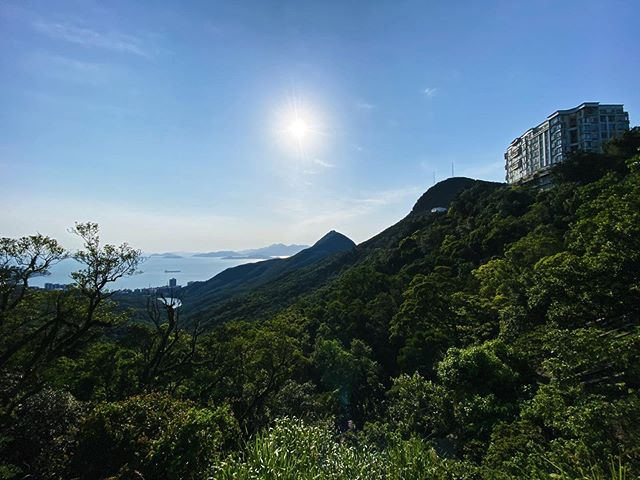building: (497, 98, 635, 178)
sea: (8, 255, 262, 290)
sky: (18, 1, 640, 231)
sun: (262, 112, 326, 157)
vegetation: (1, 157, 638, 480)
